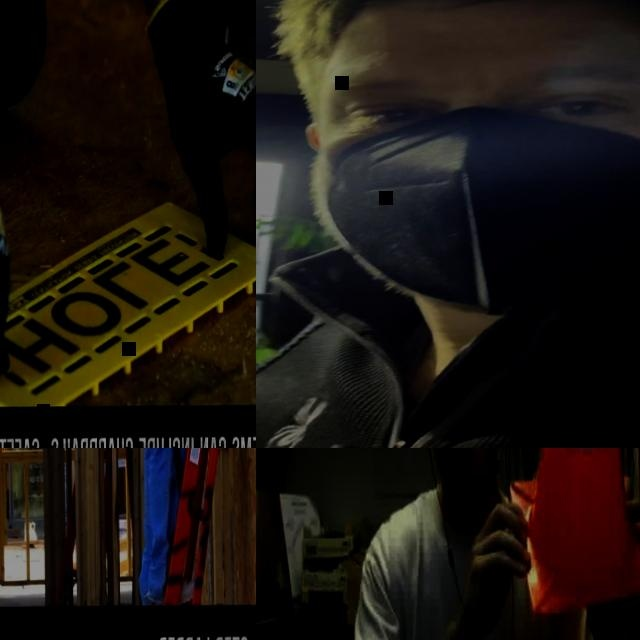Mask: (325, 106, 640, 311)
NO-Hardhat: (305, 0, 640, 70)
NO-Mask: (427, 448, 490, 500)
NO-Safety Vest: (256, 298, 640, 448), (393, 499, 548, 640)
Person: (256, 0, 640, 448), (0, 0, 256, 384), (337, 448, 640, 640), (124, 448, 251, 604)
Safety Cone: (507, 448, 640, 612)
